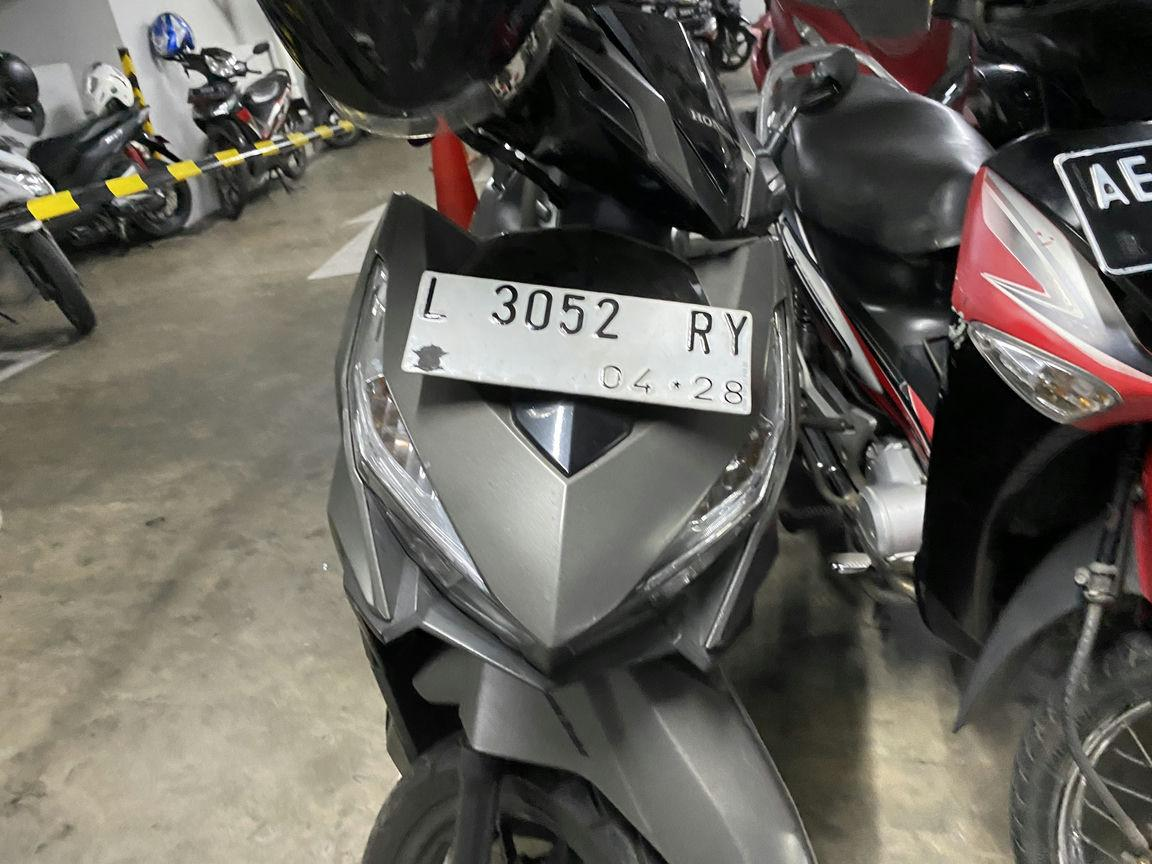plat: (400, 270, 754, 413)
